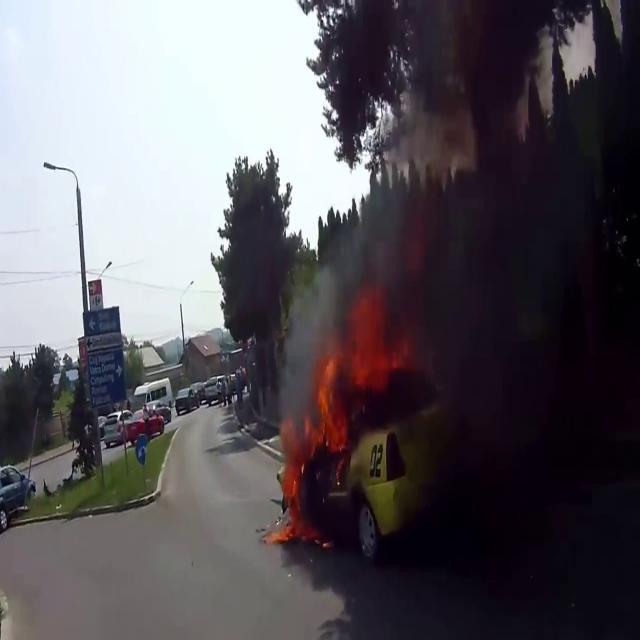Fire: (306, 290, 404, 470)
Smoke: (359, 0, 605, 452)
